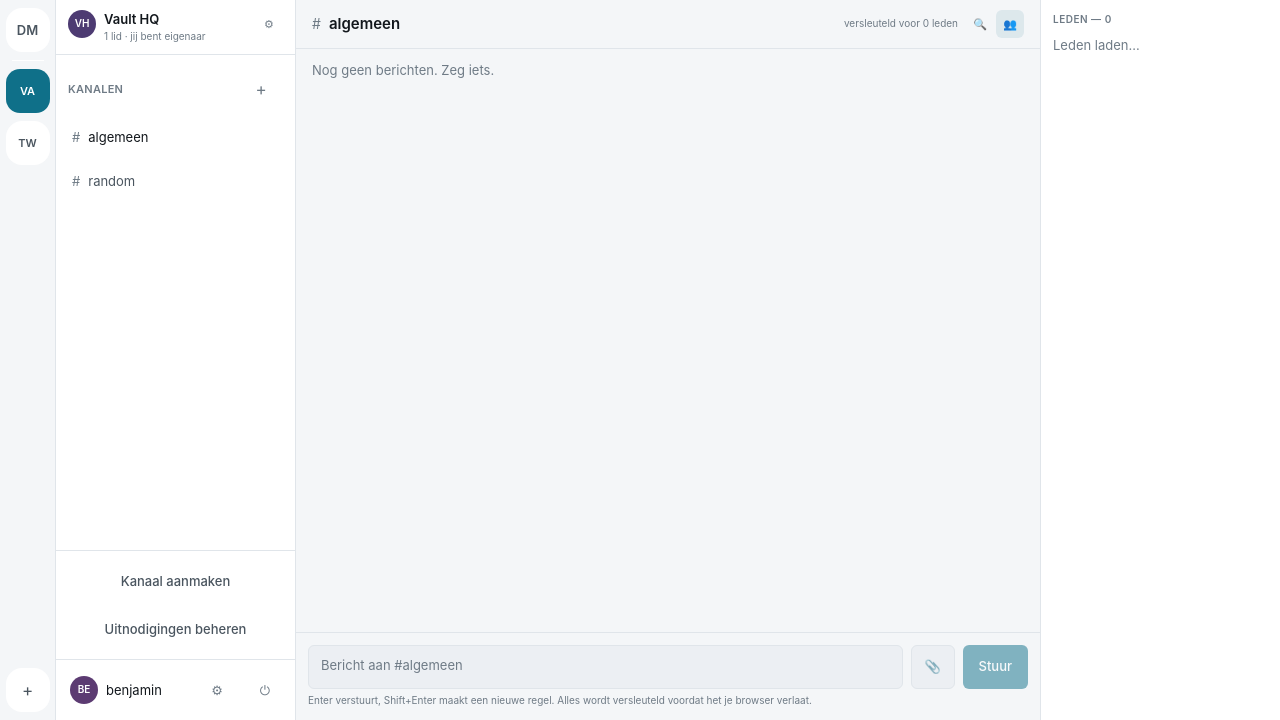
Test: A1 — navigating between DM mode and server mode › switches between two servers without stranding you on the wrong channel
Check: the text box with placeholder "Bericht aan #algemeen" is shown, box [308,644,902,688]
Click the button titled "Tweede" at (28, 143), box [6,121,50,165]
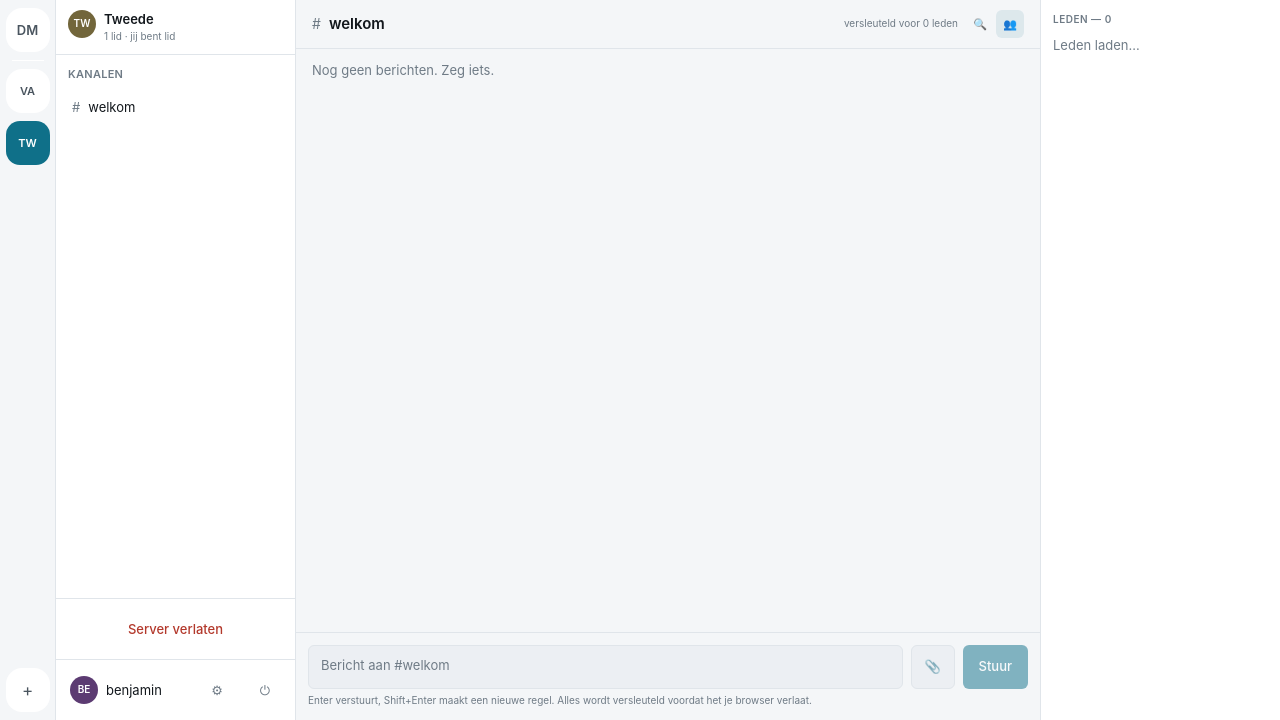
Check: the text box with placeholder "Bericht aan #welkom" is shown, box [308,644,902,688]
